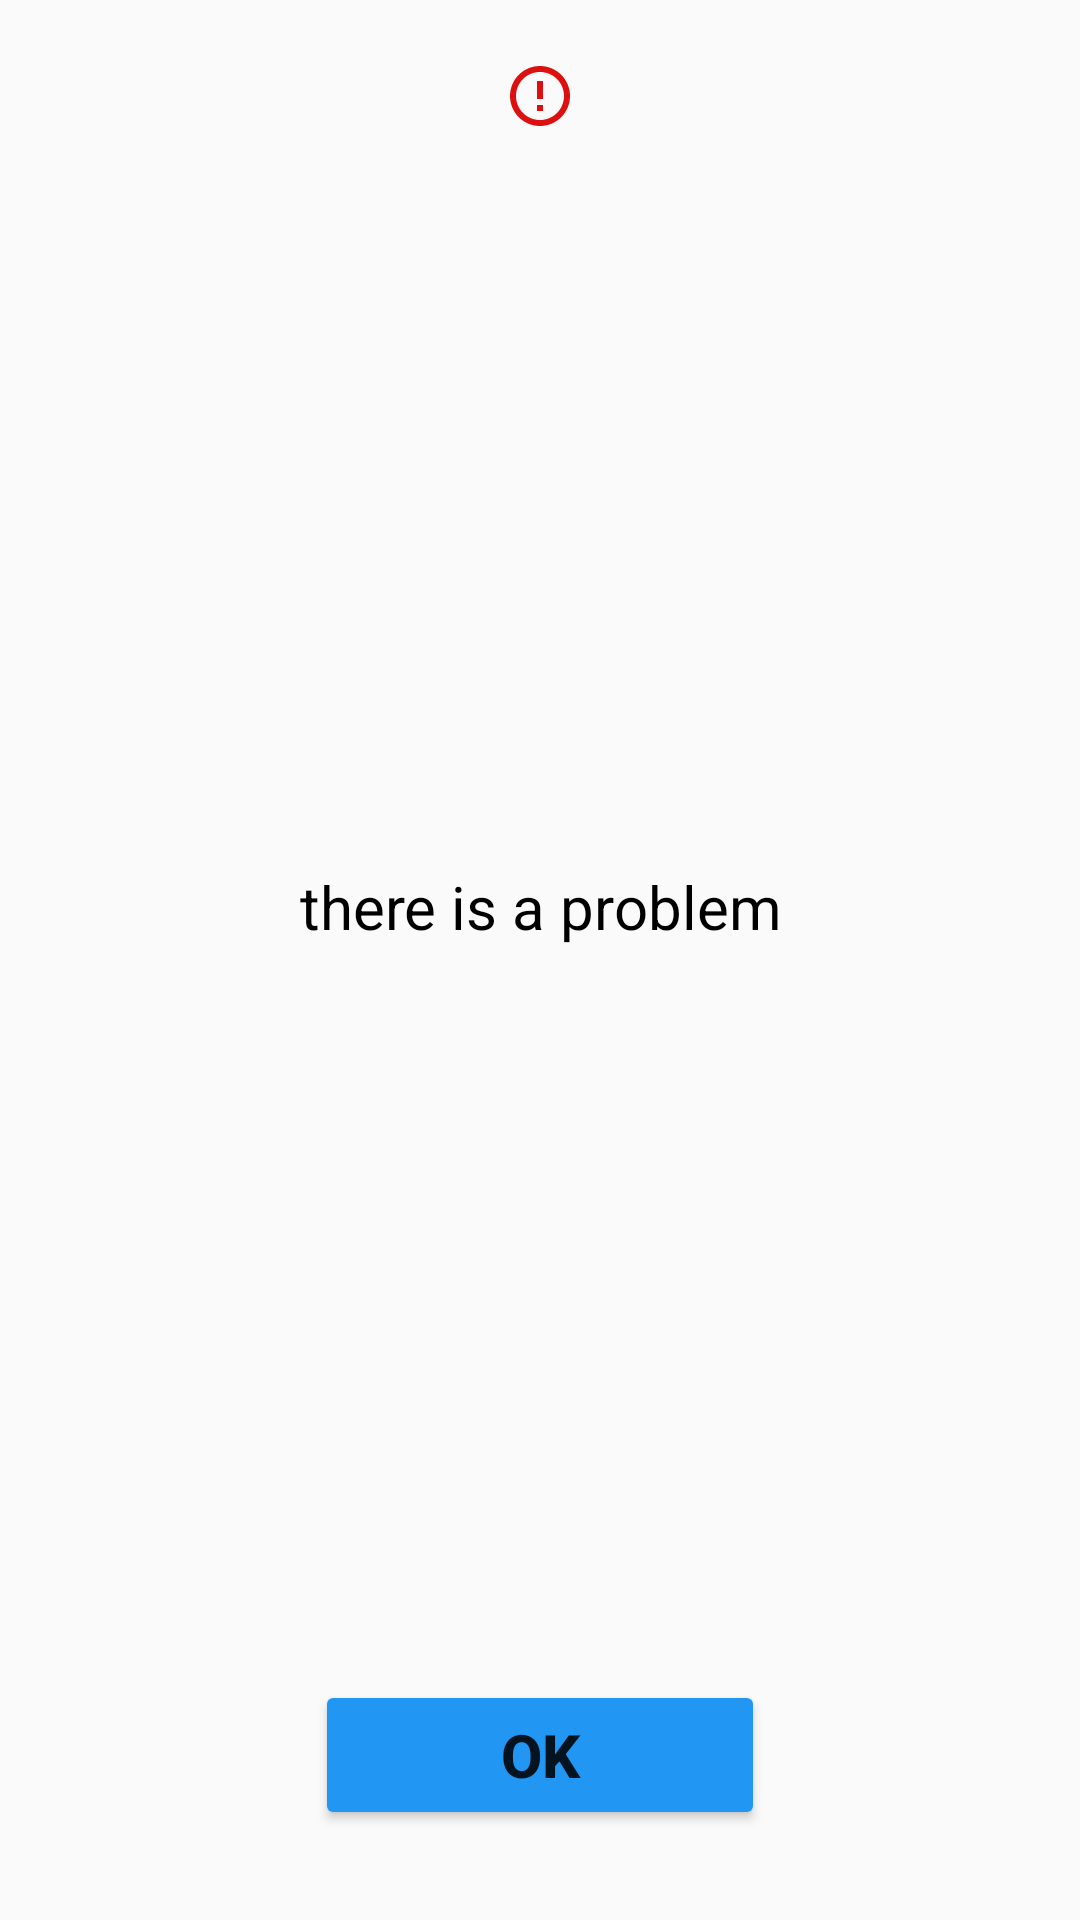

Screen size 1080x1920. Icon name, then its box in pixels as (x1, y1, x2, y2):
error: (510, 66, 570, 126)
